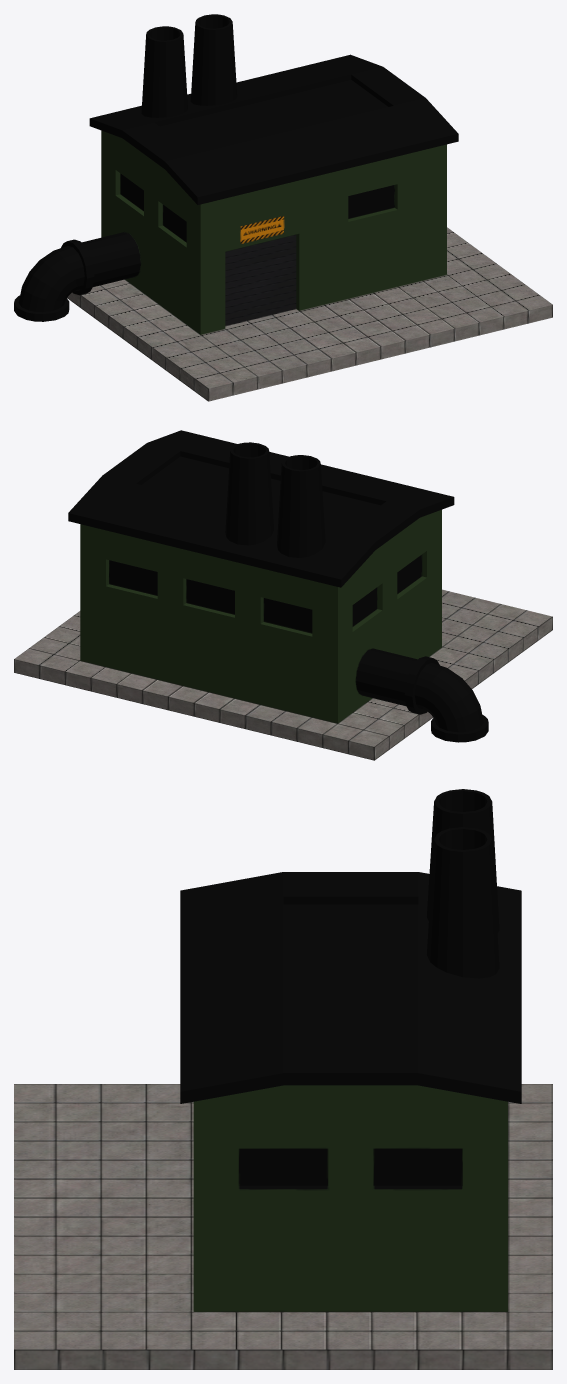
Rendered from pabrik.fbx.
The picture shows the model from 3 angles, top to bottom: view 1: azimuth 30°, elevation 25°; view 2: azimuth 150°, elevation 25°; view 3: azimuth 270°, elevation 25°; orthographic projection. The views are drawn at different scales.
Visible parts, largest first — view 1: FIX; view 2: FIX; view 3: FIX.
Boxes of the visible parts, bbox=[...] form: FIX: bbox=[14, 14, 552, 401]; FIX: bbox=[14, 430, 552, 760]; FIX: bbox=[14, 789, 552, 1369].
Bounding box in the file's own units: 1655 × 1200 × 930.
1 material, 1 textured.
